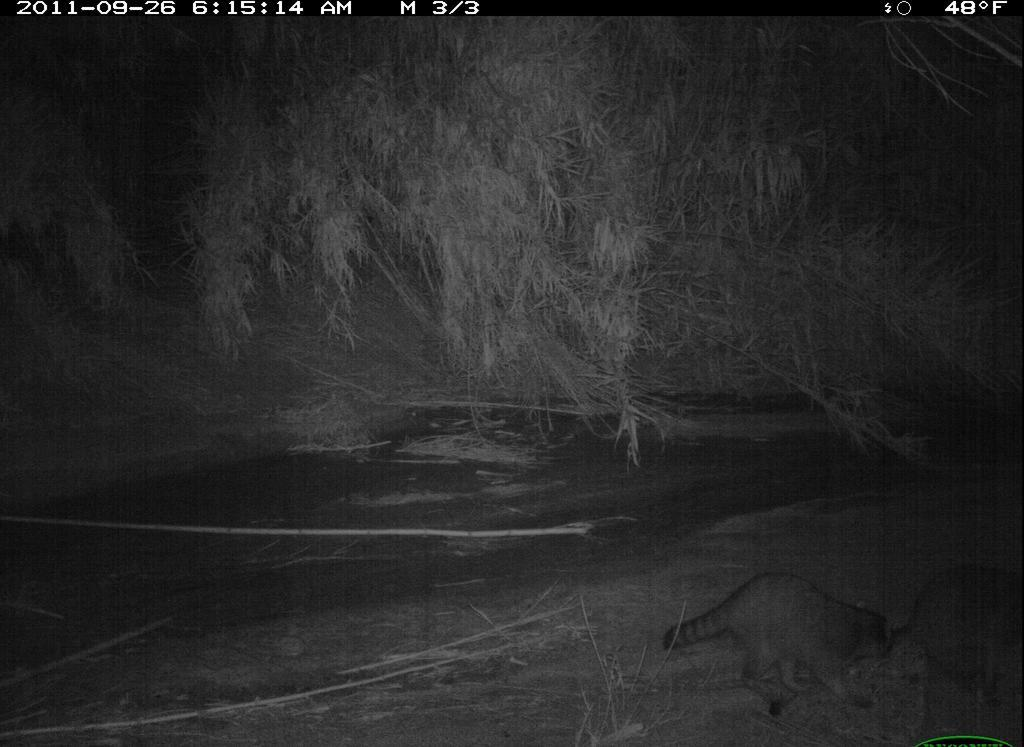raccoon: (655, 567, 900, 719), (911, 560, 1022, 725)
